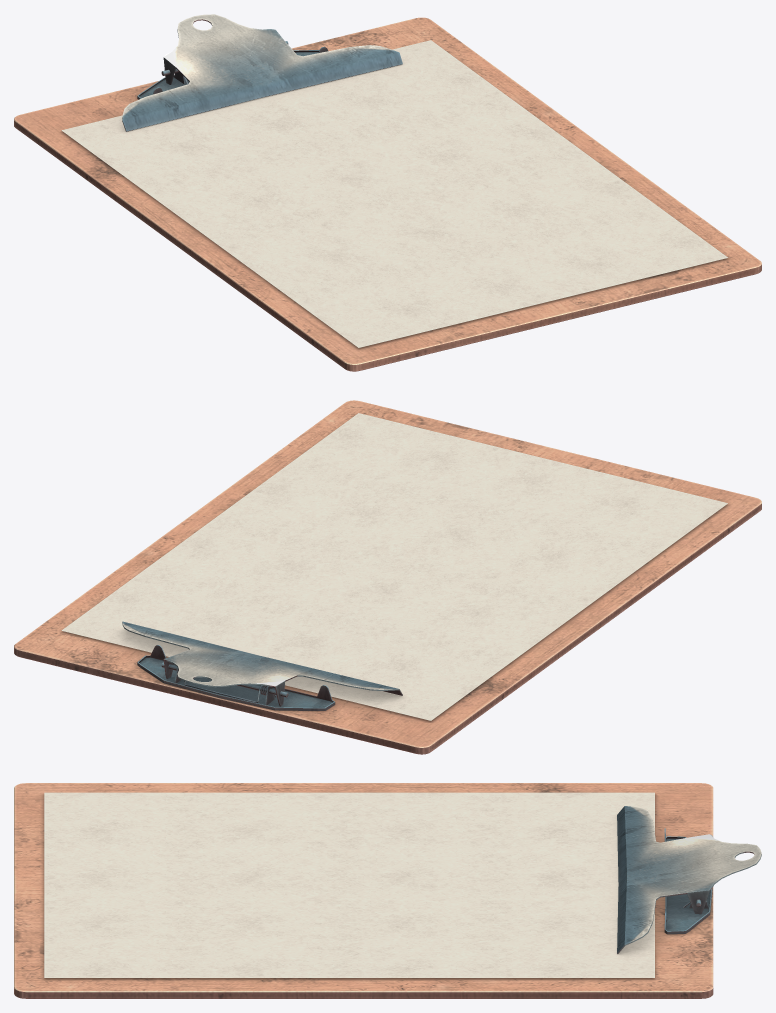
The picture shows the model from 3 angles, top to bottom: view 1: azimuth 30°, elevation 25°; view 2: azimuth 150°, elevation 25°; view 3: azimuth 270°, elevation 25°; orthographic projection. The views are drawn at different scales.
Parts seen in each view (by area): view 1: page, board_1; view 2: page, board_1; view 3: page, board_1.
Boxes of the visible parts, x1,y1,x2,y2 form: page: (61,40,727,347); board_1: (14,14,761,371); page: (61,413,727,720); board_1: (14,400,761,754); page: (44,792,654,977); board_1: (14,783,761,998).
Size of the model in its own units: 0.5138 by 0.7789 by 0.0476.
